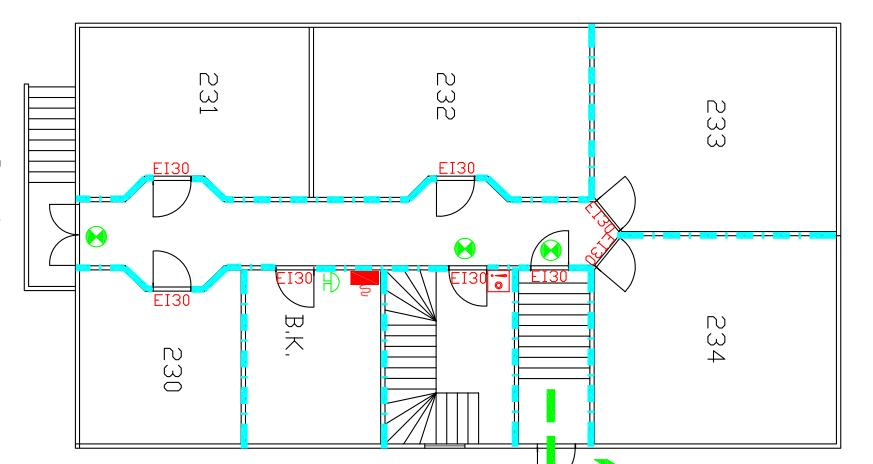room: (589, 235, 838, 446), (590, 25, 836, 234), (312, 27, 592, 199), (76, 26, 311, 200), (76, 266, 242, 445), (243, 266, 385, 443)
